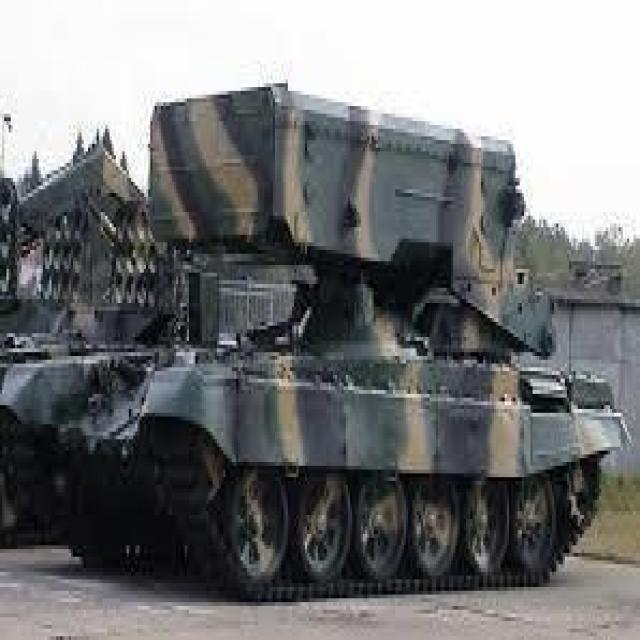Tanks: (124, 114, 604, 568)
